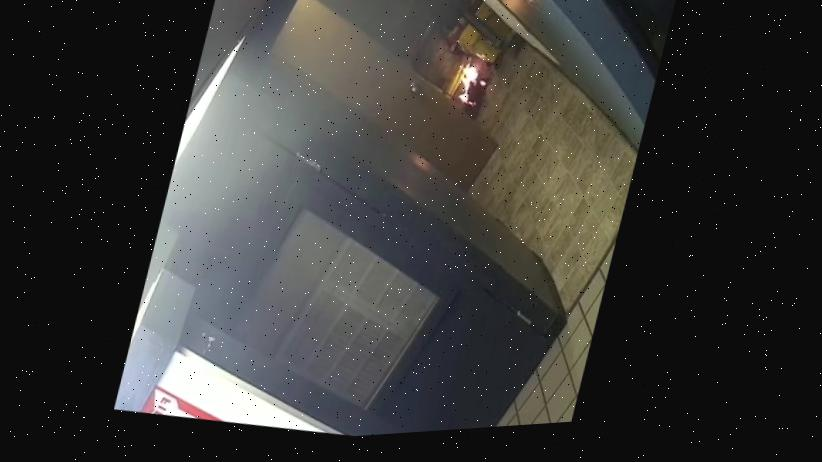fire: (431, 46, 499, 109)
